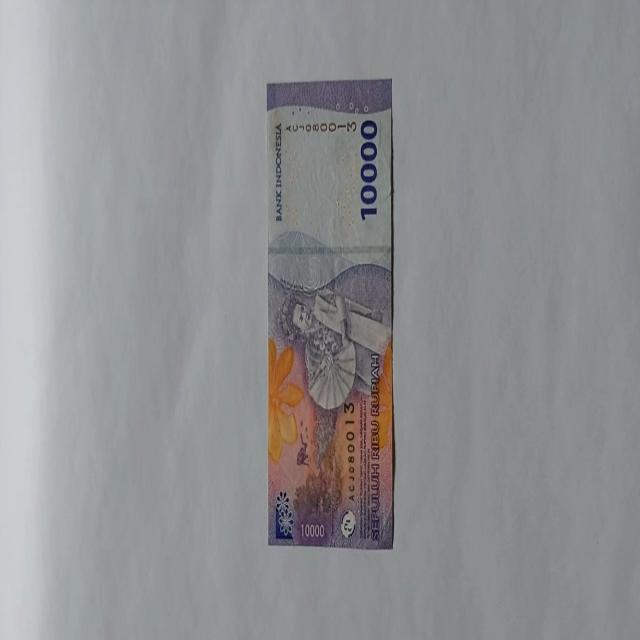sepuluh ribu rupiah: (265, 78, 395, 550)
